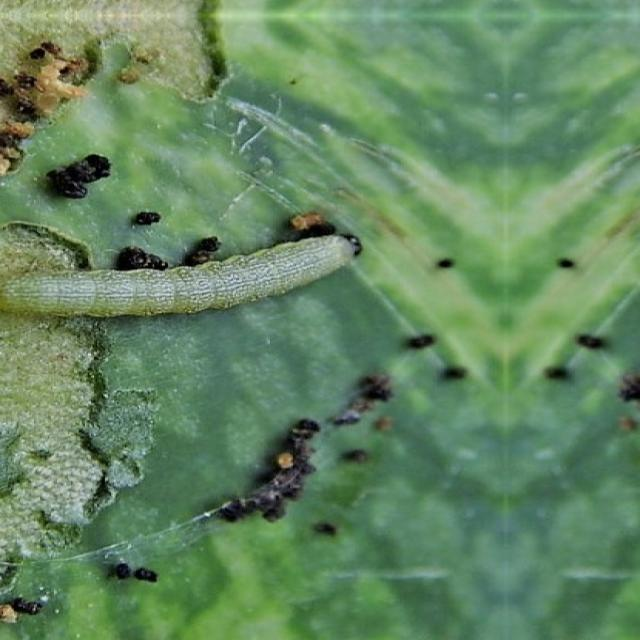armyworm: (0, 228, 362, 318)
